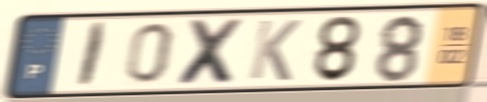0: (124, 20, 177, 87)
8: (372, 10, 426, 84), (312, 14, 364, 84)
I: (73, 20, 111, 91)
K: (246, 17, 304, 84)
X: (174, 17, 249, 88)
